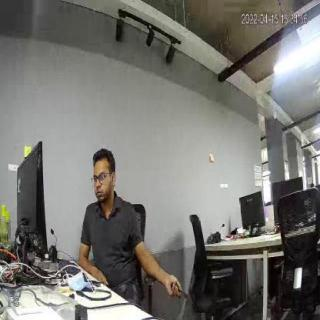knife: (174, 286, 194, 306)
